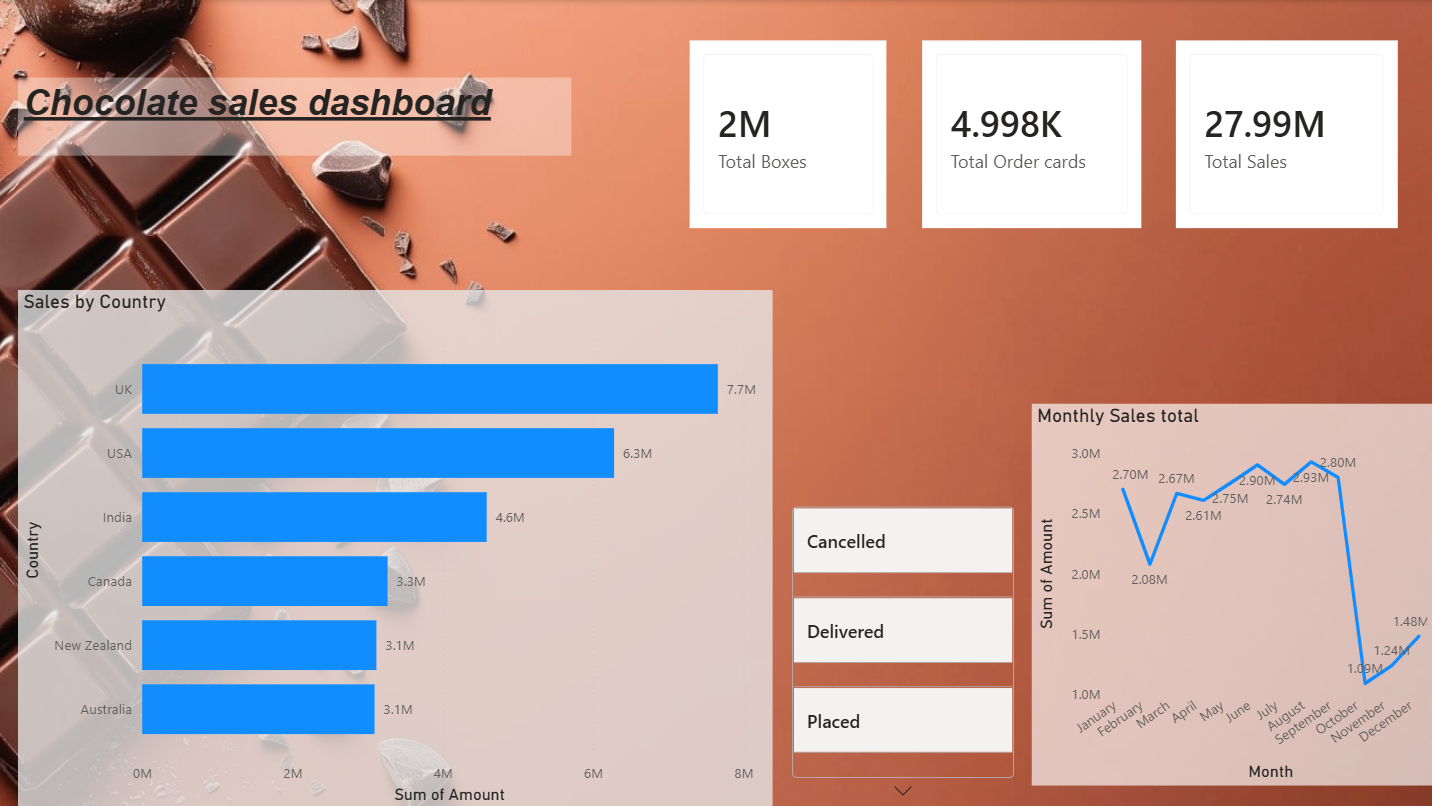

This screenshot's page, from the dashboard's own definition file:
{"tool":"powerbi","page":{"name":"Page 1","canvas":[1280,720],"ordinal":0},"visuals":[{"type":"cardVisual","fields":{"Data":["Sum(data.Amount)"]},"box":[1044.3,31.6,207.2,177],"z":0},{"type":"cardVisual","fields":{"Data":["Sum(data.Boxes)"]},"box":[610.6,31.6,185.2,177],"z":1},{"type":"cardVisual","fields":{"Rows":["data.Order Status"]},"box":[702.6,426.8,207.2,293.7],"z":2},{"type":"cardVisual","fields":{"Data":["CountNonNull(data.Order Status)"]},"box":[817.8,31.6,205.8,177],"z":4},{"type":"clusteredBarChart","title":"Sales by Country","fields":{"Category":["data.Country"],"Y":["Sum(data.Amount)"]},"box":[17.8,258,672.4,462.4],"z":5},{"type":"lineChart","title":"Monthly Sales total","fields":{"Y":["Sum(data.Amount)"],"Category":["data.Date.Variation.Date Hierarchy.Year","data.Date.Variation.Date Hierarchy.Month"]},"box":[920.8,359.5,359.5,340.3],"z":6},{"type":"textbox","box":[17.8,68.6,492.6,70],"z":7}]}

Visuals, with their boxes in screenshot pixels (x1, y1, x2, y2), scaled from the page's 1280x720 canvas onto the 1432x806 screenshot:
cardVisual - Sum(data.Amount): <bbox>1168, 35, 1400, 234</bbox>
cardVisual - Sum(data.Boxes): <bbox>683, 35, 890, 234</bbox>
cardVisual - data.Order Status: <bbox>786, 478, 1018, 805</bbox>
cardVisual - CountNonNull(data.Order Status): <bbox>915, 35, 1145, 234</bbox>
"Sales by Country" clusteredBarChart: <bbox>20, 289, 772, 805</bbox>
"Monthly Sales total" lineChart: <bbox>1030, 402, 1431, 783</bbox>
textbox: <bbox>20, 77, 571, 155</bbox>
